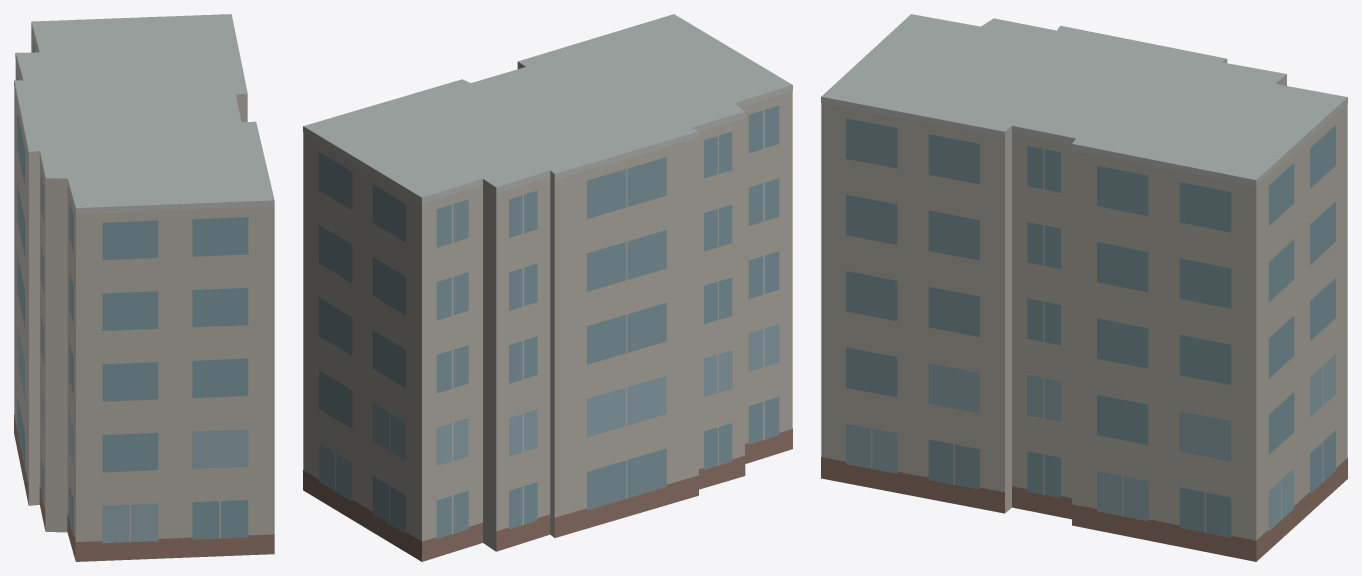
Rendered from survey-upis-32638379.glb.
3 views of the same model, side by side, from view 1: azimuth 30°, elevation 25°; view 2: azimuth 150°, elevation 25°; view 3: azimuth 270°, elevation 25° (orthographic). The views are drawn at different scales.
Parts seen in each view (by area): view 1: survey-upis-32638379.tmp; view 2: survey-upis-32638379.tmp; view 3: survey-upis-32638379.tmp.
Boxes of the visible parts, bbox=[...] form: survey-upis-32638379.tmp: bbox=[14, 14, 274, 561]; survey-upis-32638379.tmp: bbox=[303, 14, 792, 561]; survey-upis-32638379.tmp: bbox=[821, 14, 1347, 561].
Bounding box in the file's own units: 13.55 × 14.5 × 18.14.
